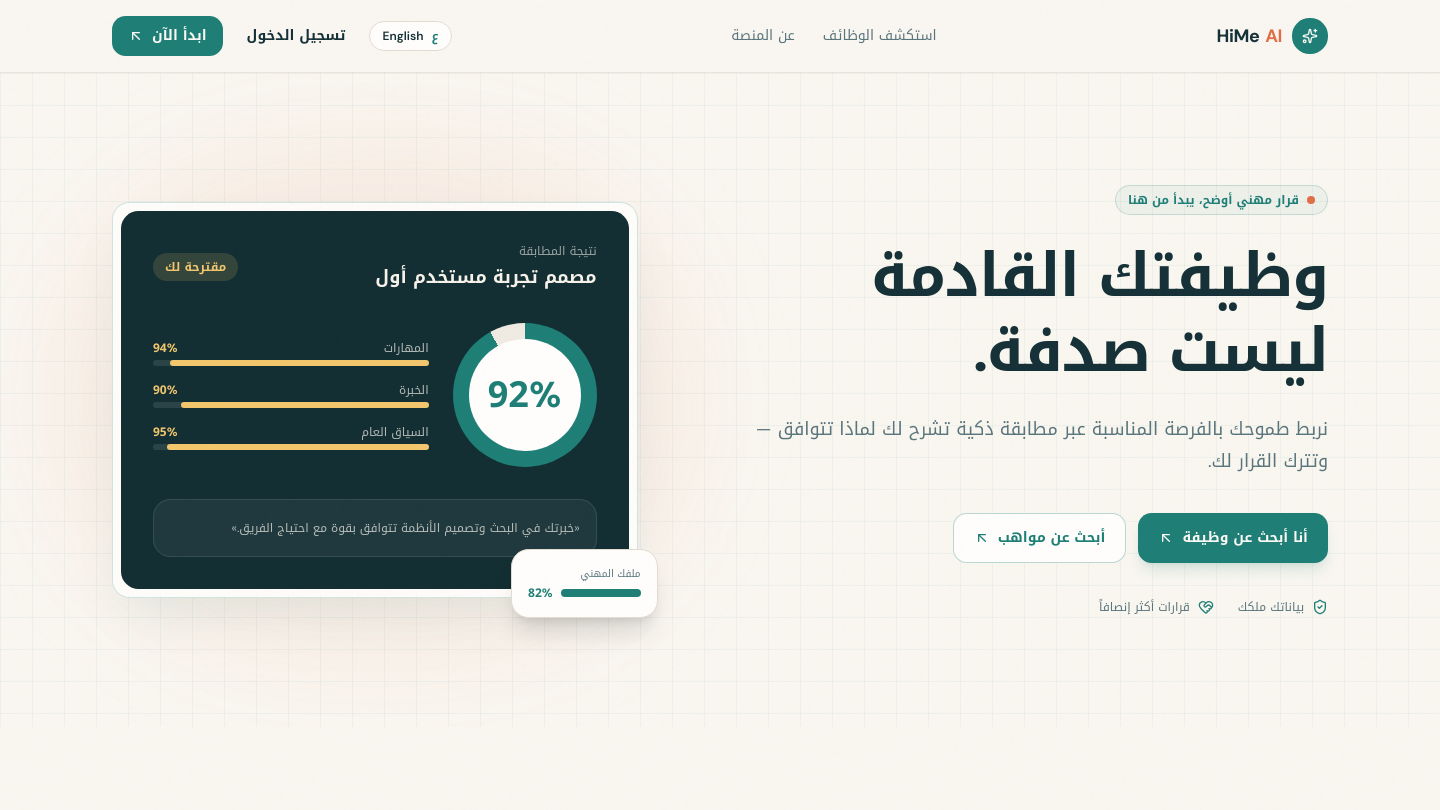
Scenario: language direction › switches the public shell from Arabic RTL to English LTR
Click the button with test id "button-language" at (411, 36), box [370,21,452,51]
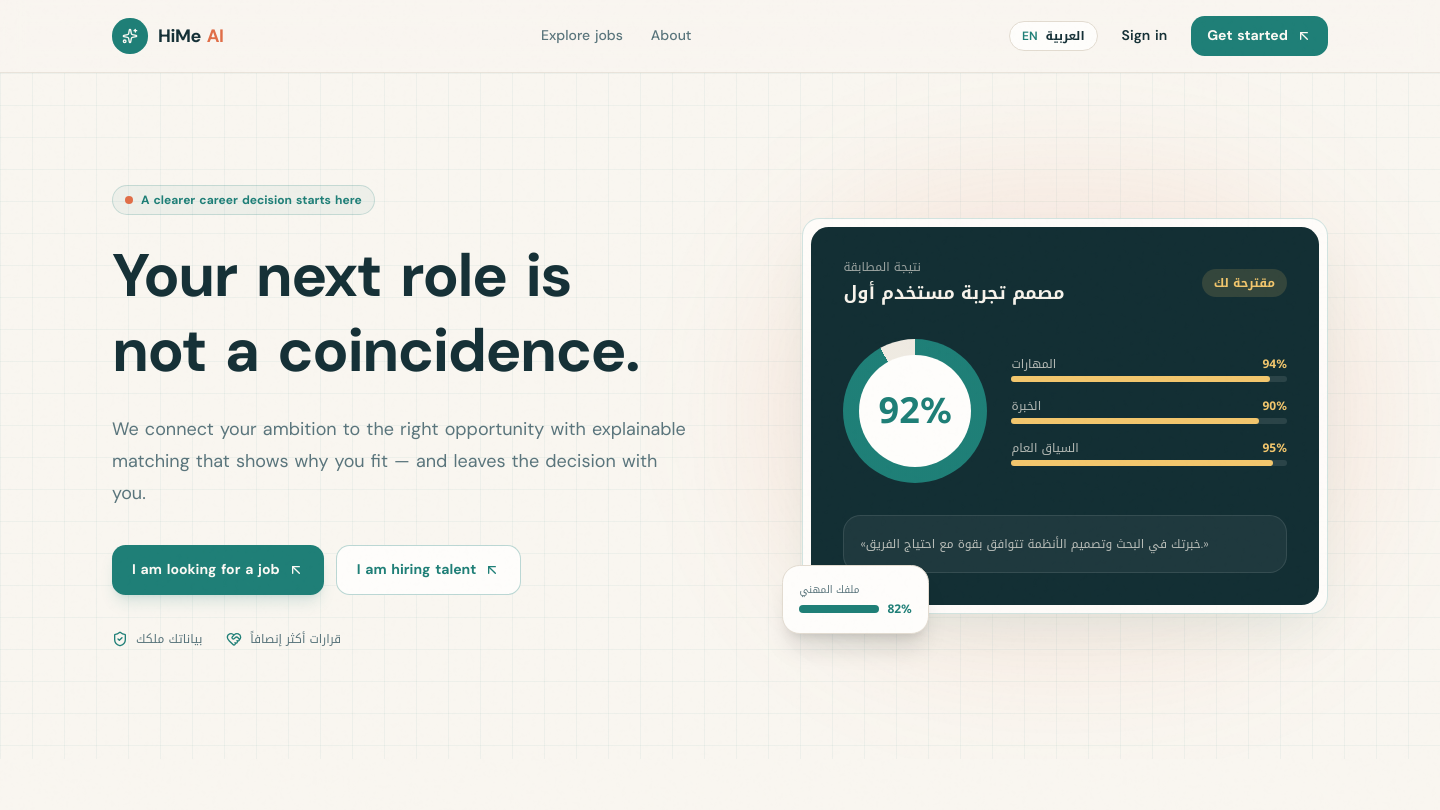
Now the heading "Your next role is not a coincidence." is shown, box [112,219,639,408]
